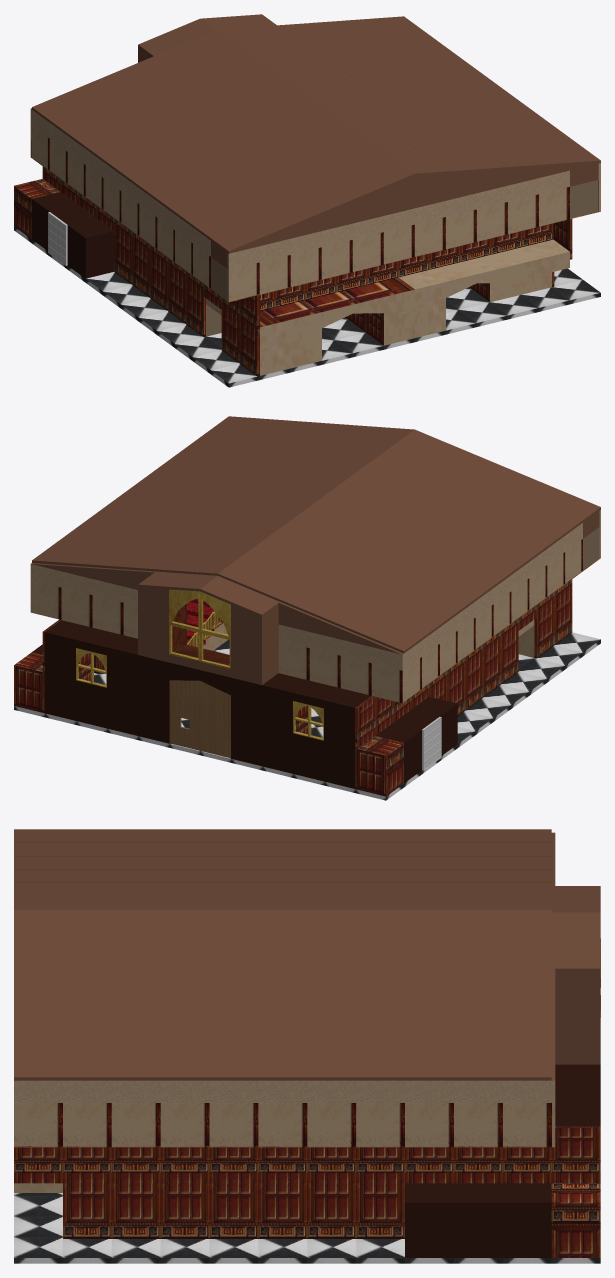
The model's file is HallMain.fbx.
The picture shows the model from 3 angles, top to bottom: view 1: azimuth 30°, elevation 25°; view 2: azimuth 150°, elevation 25°; view 3: azimuth 270°, elevation 25°; orthographic projection. The views are drawn at different scales.
Visible parts, largest first — view 1: HallRoofRight, HallRoofLeft, HallFloorTiles, HallWallF1Back_2, HallWallB0TunnelRight, HallWallF3RooftopBack, HallWallB0TunnelLeft.001, HallWallF2Back_2, HallWallF1Right_2, HallWallB1Back, HallWallB0BreakRight, HallWallB0Right (+11 smaller); view 2: HallRoofRight, HallRoofLeft, HallWallF1WindowEntrance, HallWallB0WindowRight, HallWallB0WindowLeft, HallFloorTiles, HallWallEntrance, HallWallF1Right_2, HallWallF1Front.001, HallDoorEntrance, HallWallF1Front, HallWallF2Right_2 (+17 smaller); view 3: HallRoofLeft, HallRoofRight, HallWallF1Left_1, HallWallB0Left, HallWallB1Left, HallFloorTiles, HallWallF2Left_1, HallWallB0BreakLeft, HallWallF1WindowEntrance, HallWallB1Left.001, HallWallB0Left.001, HallWallB0WindowLeft.
Boxes of the visible parts, box(x1,y1,x2,y2) form: HallRoofRight: box(32, 29, 414, 253); HallRoofLeft: box(218, 16, 600, 175); HallFloorTiles: box(14, 226, 600, 387); HallWallF1Back_2: box(227, 187, 569, 302); HallWallB0TunnelRight: box(260, 277, 414, 375); HallWallF3RooftopBack: box(230, 163, 599, 253); HallWallB0TunnelLeft.001: box(399, 239, 569, 337); HallWallF2Back_2: box(227, 170, 569, 269); HallWallF1Right_2: box(32, 126, 210, 288); HallWallB1Back: box(260, 223, 553, 310); HallWallB0BreakRight: box(32, 192, 114, 278); HallWallB0Right: box(114, 231, 205, 336); HallRoofRight: box(218, 429, 600, 653); HallRoofLeft: box(32, 416, 414, 575); HallWallF1WindowEntrance: box(138, 571, 279, 684); HallWallB0WindowRight: box(262, 673, 371, 788); HallWallB0WindowLeft: box(45, 620, 137, 735); HallFloorTiles: box(14, 632, 600, 800); HallWallEntrance: box(138, 655, 261, 766); HallWallF1Right_2: box(404, 539, 582, 701); HallWallF1Front.001: box(278, 641, 403, 703); HallDoorEntrance: box(169, 680, 230, 758); HallWallF1Front: box(30, 580, 137, 638); HallWallF2Right_2: box(404, 523, 582, 669); HallRoofLeft: box(14, 909, 551, 1080); HallRoofRight: box(14, 829, 551, 909); HallWallF1Left_1: box(14, 1103, 551, 1147); HallWallB0Left: box(63, 1183, 404, 1238); HallWallB1Left: box(14, 1126, 600, 1172); HallFloorTiles: box(14, 1193, 600, 1263); HallWallF2Left_1: box(14, 1080, 551, 1102); HallWallB0BreakLeft: box(405, 1183, 551, 1257); HallWallF1WindowEntrance: box(551, 886, 600, 1064); HallWallB1Left.001: box(14, 1172, 600, 1183); HallWallB0Left.001: box(551, 1183, 600, 1257); HallWallB0WindowLeft: box(555, 1064, 600, 1126).
Size of the model in its own units: 2411 by 1038 by 2401.
